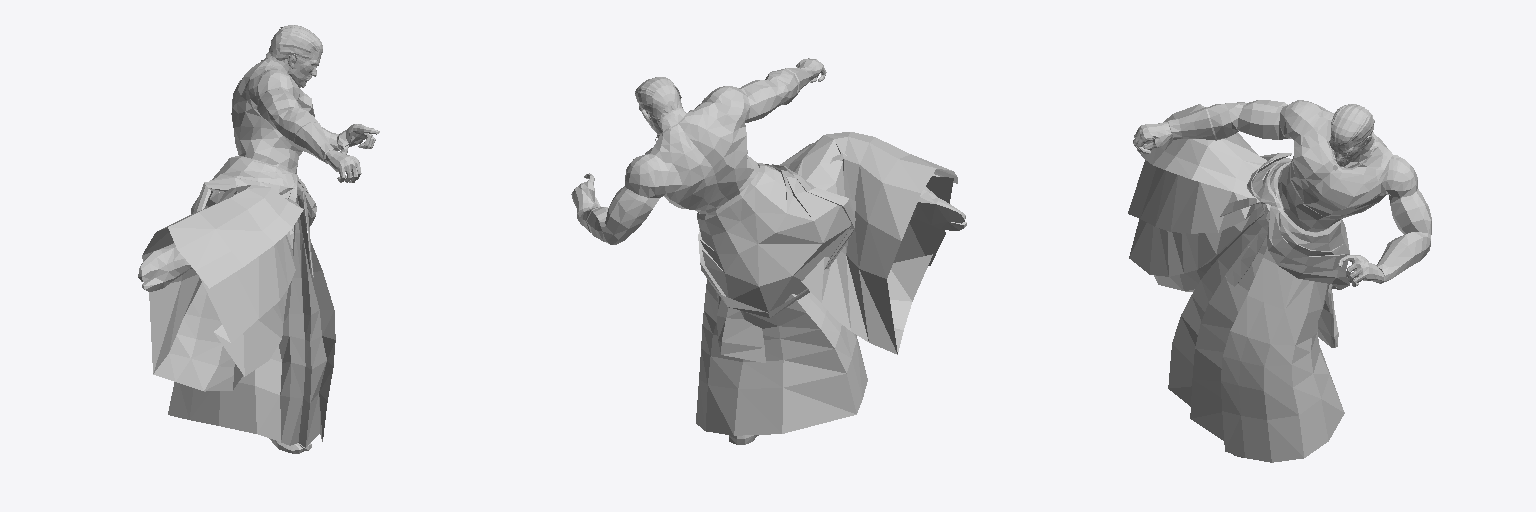
The model's file is geese_attack_000026.obj.
3 renders of one model, left to right at view 1: azimuth 30°, elevation 25°; view 2: azimuth 150°, elevation 25°; view 3: azimuth 270°, elevation 25°, orthographic.
Visible parts, largest first — view 1: GamemodelShape1.002, hairShape; view 2: GamemodelShape1.002, hairShape; view 3: GamemodelShape1.002, hairShape.
Boxes of the visible parts, box(x1,y1,x2,y2) form: GamemodelShape1.002: box(138, 51, 379, 453); hairShape: box(266, 25, 322, 63); GamemodelShape1.002: box(571, 58, 966, 444); hairShape: box(635, 77, 684, 122); GamemodelShape1.002: box(1128, 100, 1431, 462); hairShape: box(1331, 104, 1374, 146).
Size of the model in its own units: 4.16 by 4.69 by 3.5.